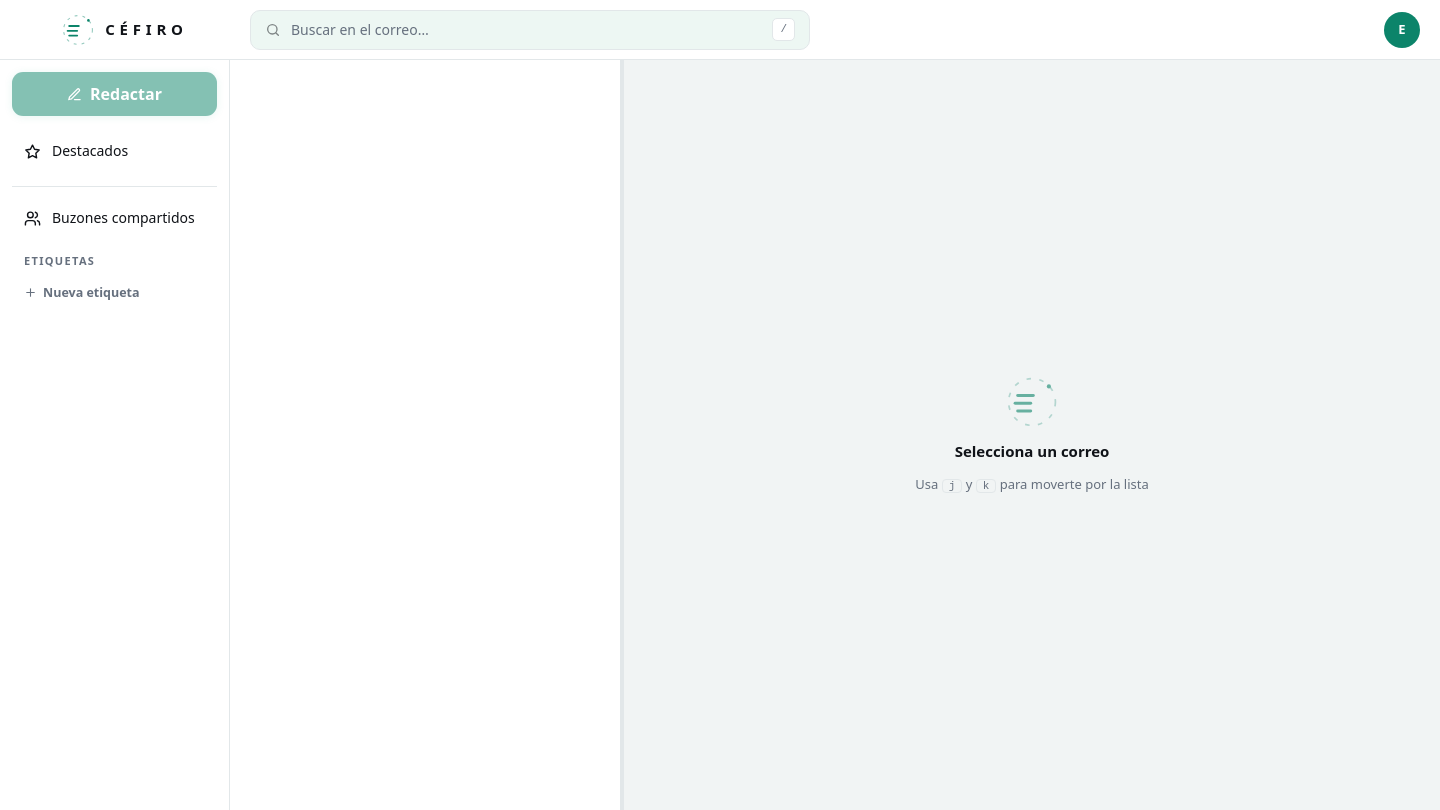
Scenario: App header after the shared-mailboxes refinement › opens the shortcuts dialog from the Atajos item inside the profile dropdown
Click the button "E".
click(1402, 30)  # box [1384,12,1420,48]
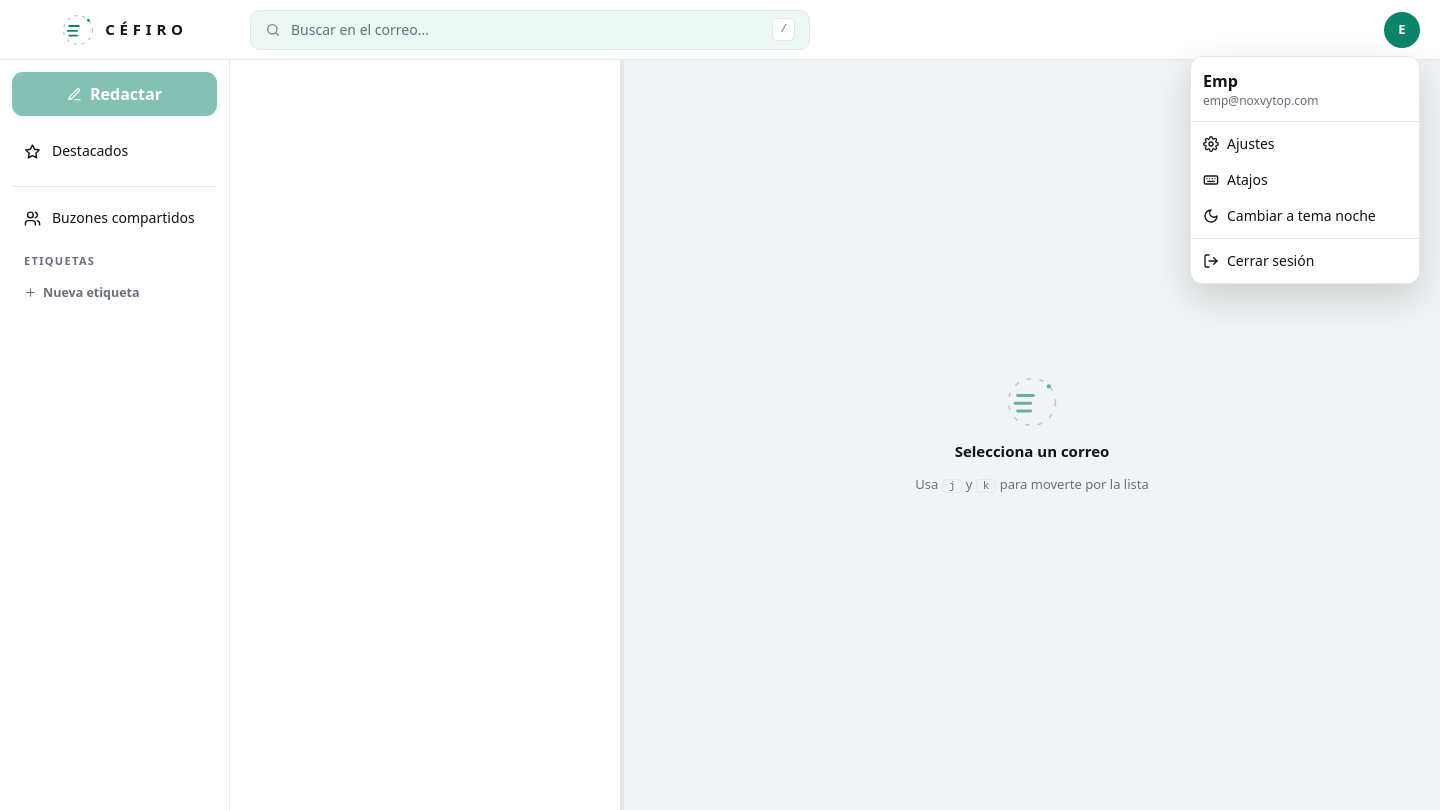
Click the menu item "Atajos".
click(1305, 180)  # box [1191,162,1419,198]
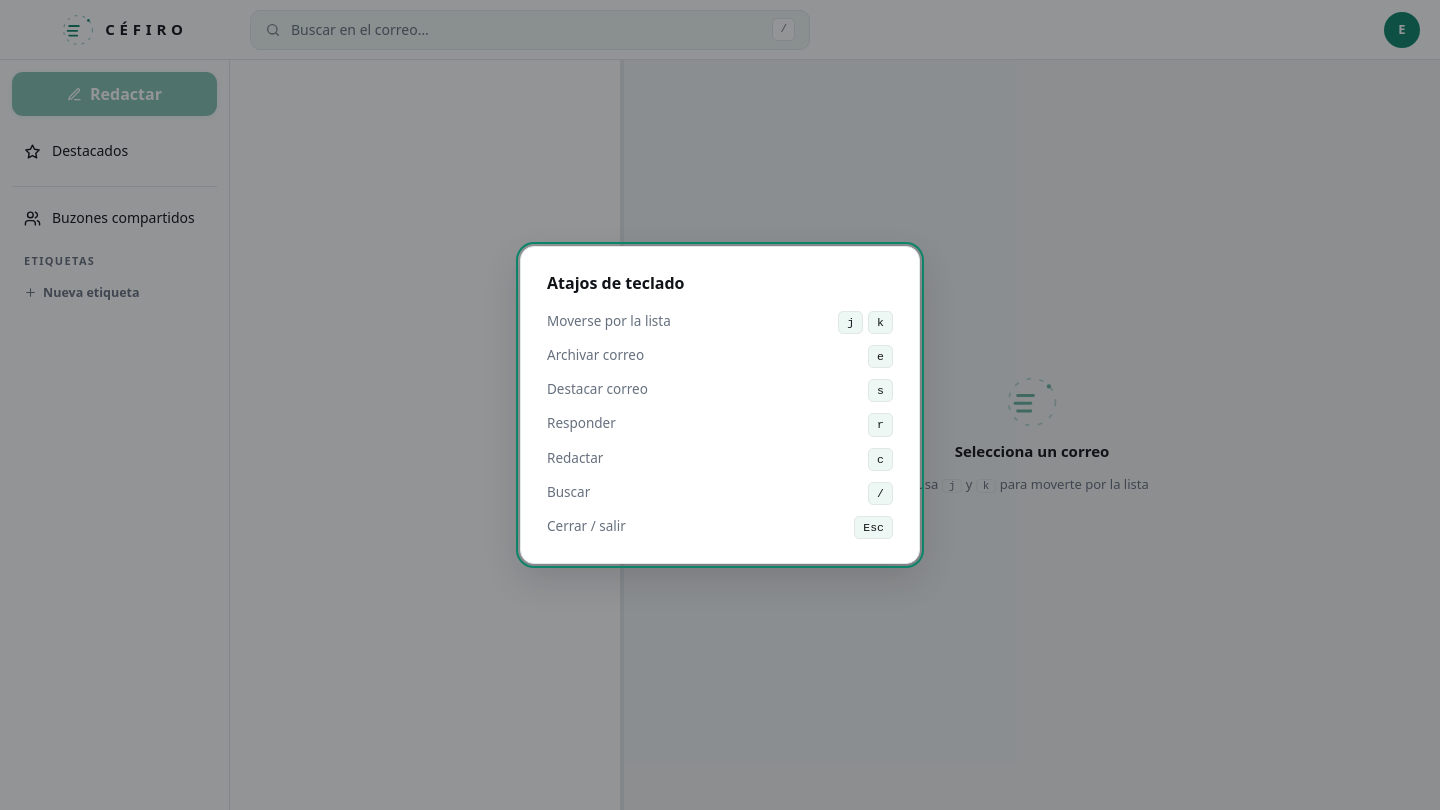
Expected: the dialog "Atajos de teclado" is shown, [520,246,920,564]
